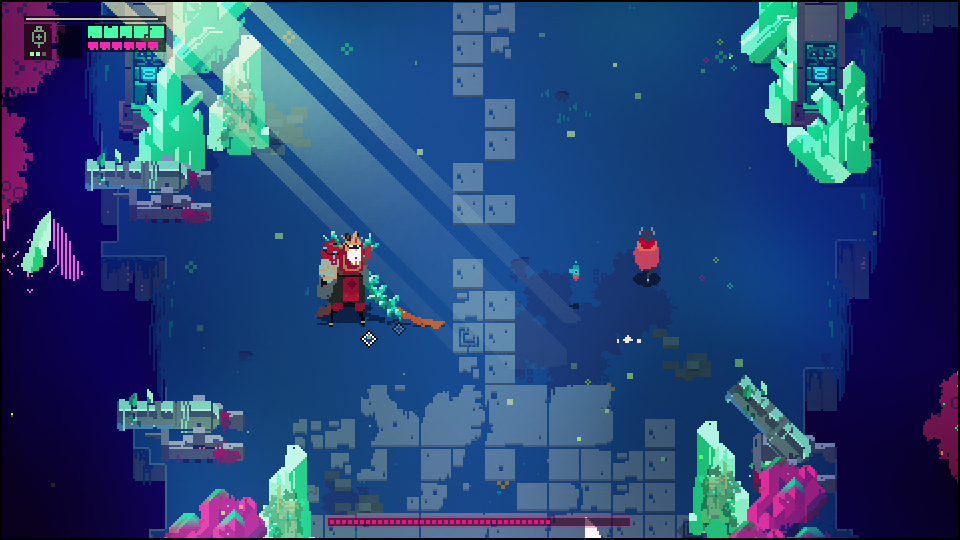hanged_crys: (24, 212, 53, 273)
hanged_man: (314, 227, 407, 337)
player: (632, 223, 660, 288)
